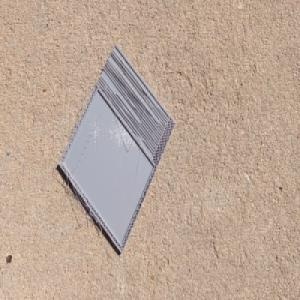PlasticPart: (57, 42, 176, 255)
